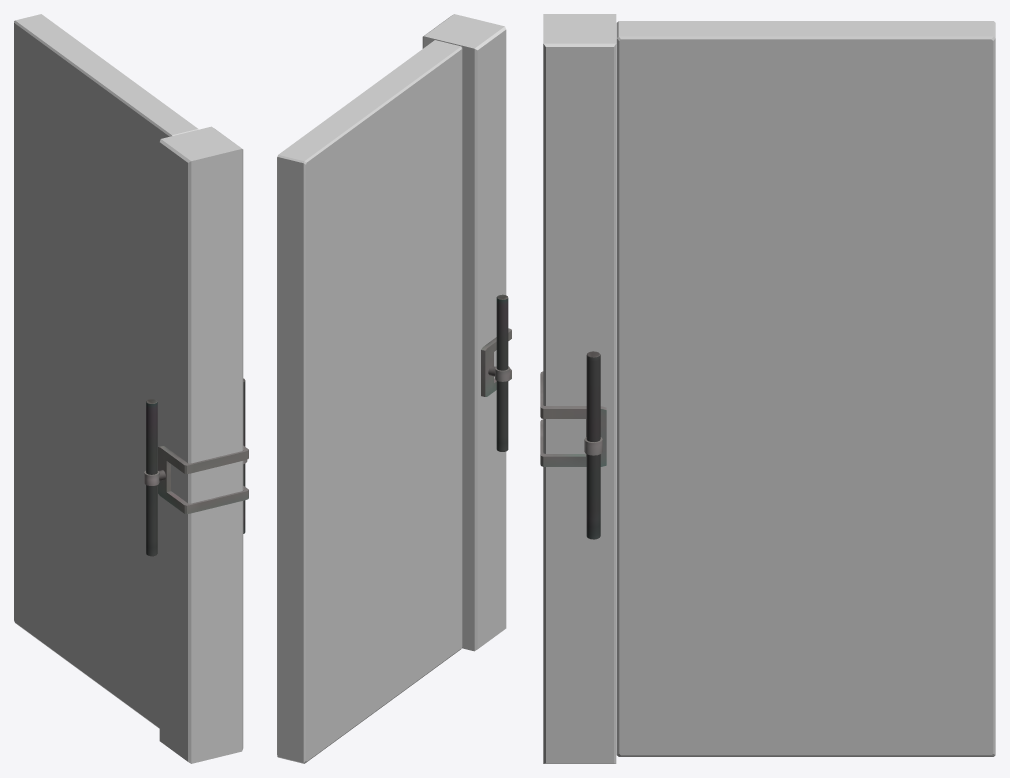
File: SM_Door_Glass_196ae6.glb
The picture shows the model from 3 angles, left to right: view 1: azimuth 30°, elevation 25°; view 2: azimuth 150°, elevation 25°; view 3: azimuth 270°, elevation 25°; orthographic projection. The views are drawn at different scales.
Bounding box in the file's own units: 0.4262 × 2.43 × 1.39.
2 materials, 1 textured.
